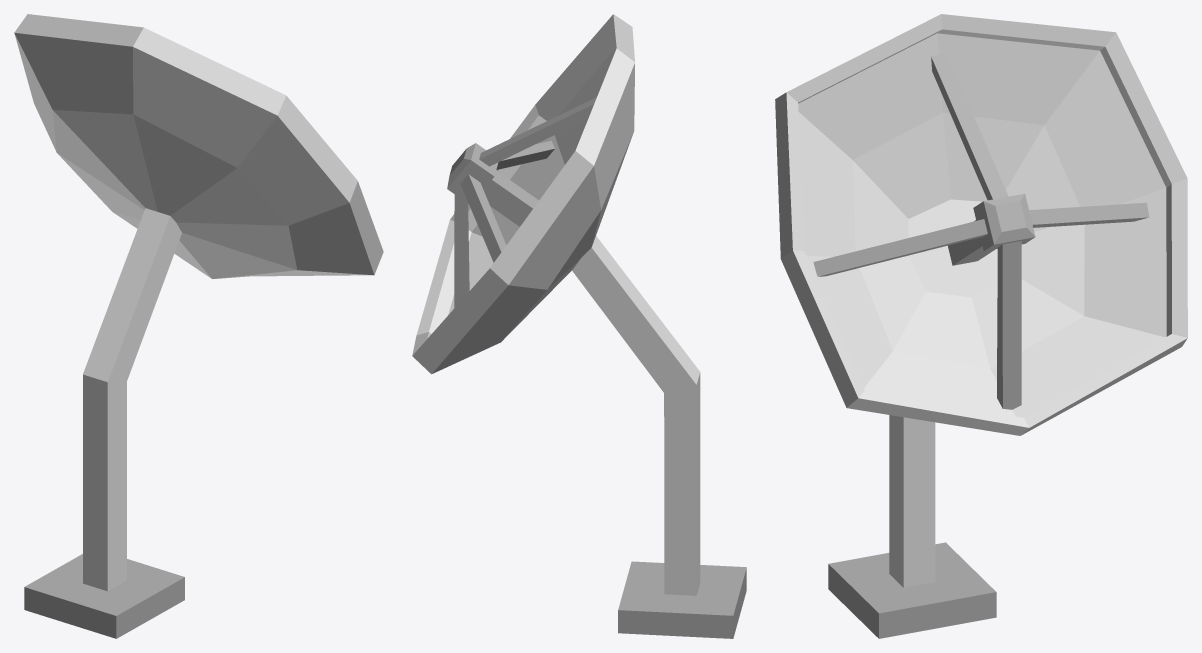
Rendered from Internet Antenna.fbx.
The picture shows the model from 3 angles, left to right: view 1: azimuth 30°, elevation 25°; view 2: azimuth 150°, elevation 25°; view 3: azimuth 270°, elevation 25°; orthographic projection. The views are drawn at different scales.
Parts seen in each view (by area): view 1: Internet Antenna; view 2: Internet Antenna; view 3: Internet Antenna.
Part boxes in pixels (x1,y1,x2,y2): Internet Antenna: (14, 14, 383, 638); Internet Antenna: (412, 14, 746, 638); Internet Antenna: (775, 14, 1187, 638).
Bounding box in the file's own units: 79.69 × 79.96 × 132.
